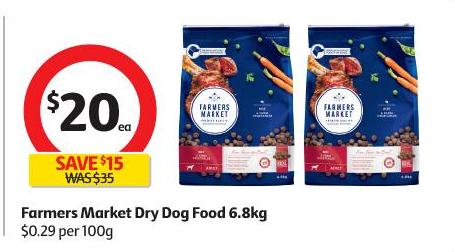description_block: (16, 200, 273, 224)
price_main: (25, 65, 151, 152)
product_image_block: (177, 10, 429, 197)
promo_text_block: (24, 151, 160, 192)
unit_price_block: (12, 221, 119, 245)
